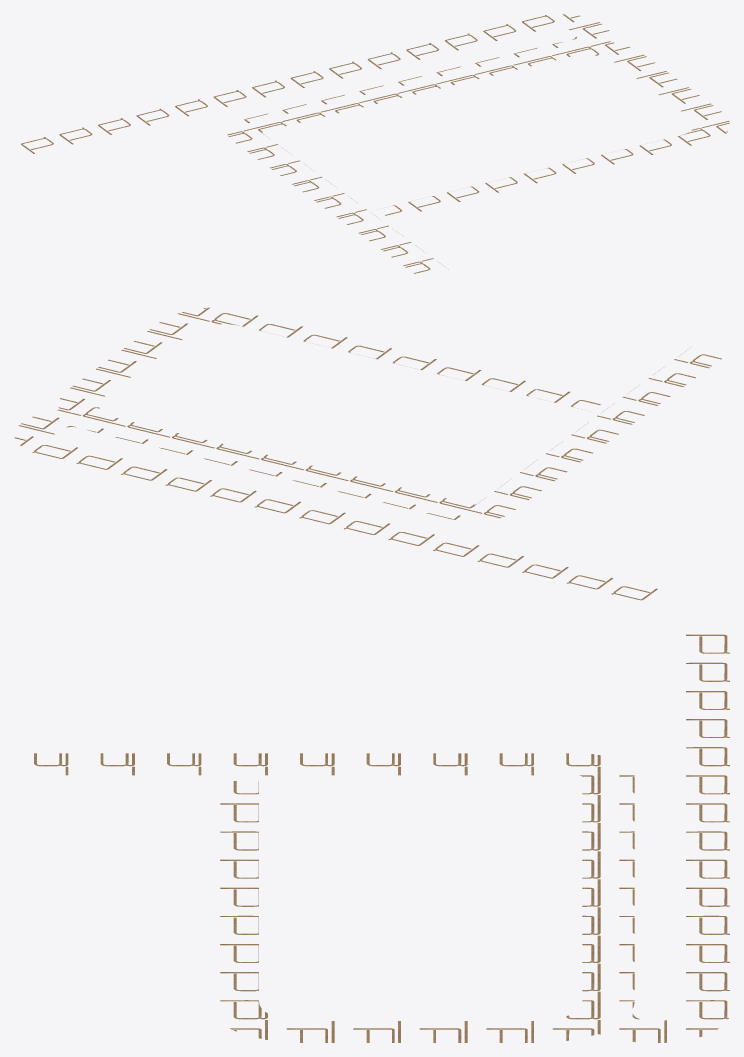
File: Road.fbx
The picture shows the model from 3 angles, top to bottom: view 1: azimuth 30°, elevation 25°; view 2: azimuth 150°, elevation 25°; view 3: azimuth 270°, elevation 25°; orthographic projection. The views are drawn at different scales.
Parts seen in each view (by area): view 1: Road; view 2: Road; view 3: Road.
Part boxes in pixels (x1,y1,x2,y2): Road: [21, 14, 729, 273]; Road: [14, 307, 721, 600]; Road: [34, 634, 729, 1042].
Bounding box in the file's own units: 3318 × 3.73e-08 × 2438.
1 material, 1 textured.
